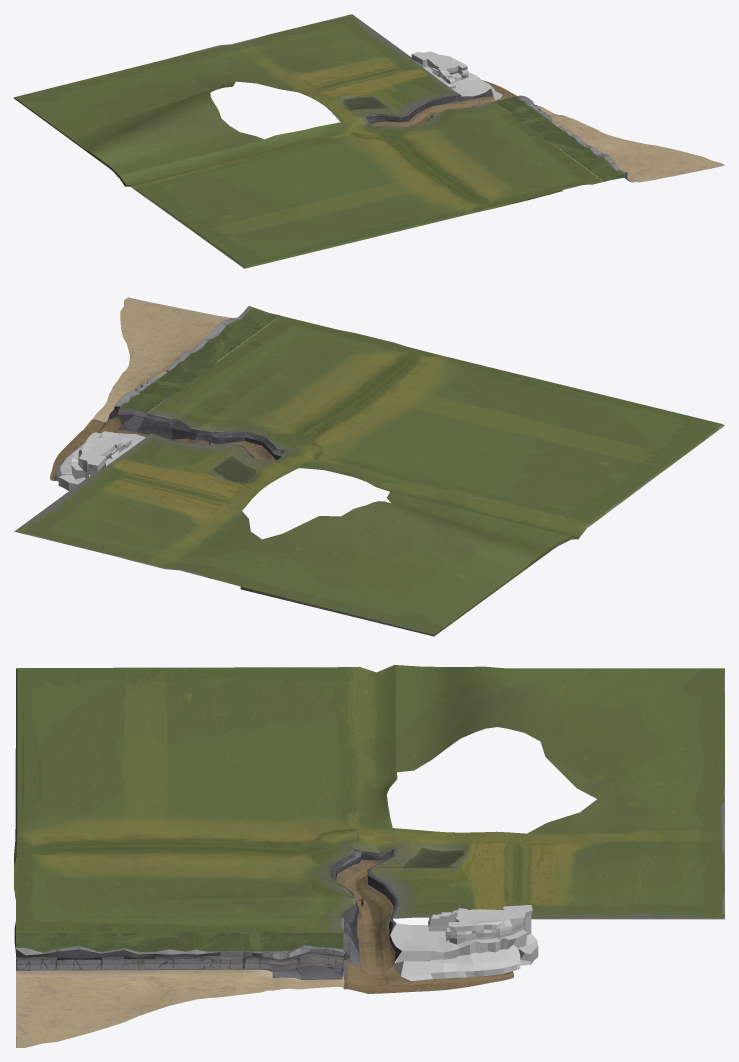
File: terrainAttempt1.fbx
The picture shows the model from 3 angles, top to bottom: view 1: azimuth 30°, elevation 25°; view 2: azimuth 150°, elevation 25°; view 3: azimuth 270°, elevation 25°; orthographic projection. The views are drawn at different scales.
Visible parts, largest first — view 1: polySurface1, beach, cliff1, tunnel, tunnelSides; view 2: polySurface1, beach, cliff1, tunnelSides, tunnel; view 3: polySurface1, beach, cliff1, tunnel, tunnelSides.
Part boxes in pixels (<box>): polySurface1: <box>14,14,602,268</box>; beach: <box>495,95,724,182</box>; cliff1: <box>411,51,502,100</box>; tunnel: <box>370,80,537,127</box>; tunnelSides: <box>365,88,493,127</box>; polySurface1: <box>14,315,724,636</box>; beach: <box>93,297,280,432</box>; cliff1: <box>55,431,145,490</box>; tunnelSides: <box>136,413,285,462</box>; tunnel: <box>50,416,276,480</box>; polySurface1: <box>14,665,724,934</box>; beach: <box>14,932,360,1047</box>; cliff1: <box>390,905,538,980</box>; tunnel: <box>335,860,513,993</box>; tunnelSides: <box>330,848,401,961</box>.
Bounding box in the file's own units: 28729 × 2304 × 24054.
